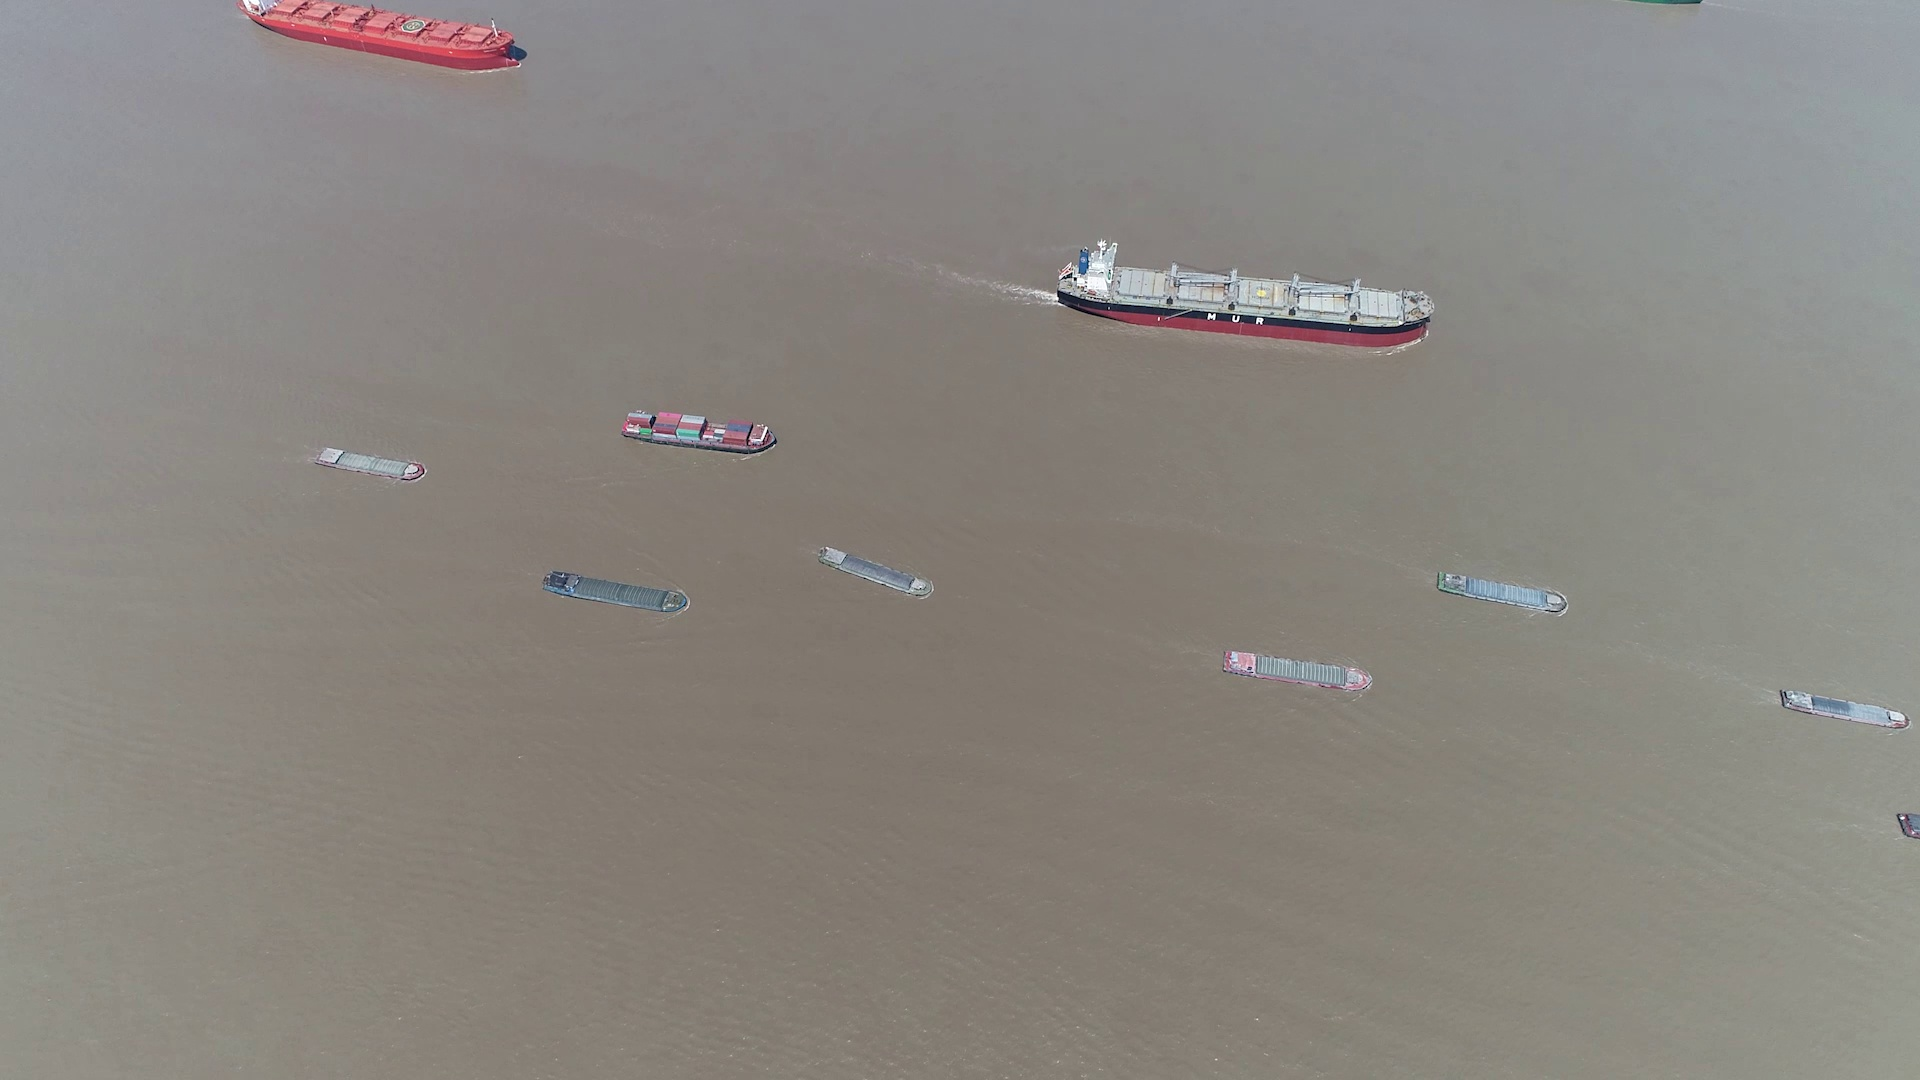ship: (1058, 243, 1437, 345), (243, 0, 525, 69), (622, 410, 778, 455), (545, 570, 687, 615), (1222, 650, 1373, 691), (1437, 570, 1569, 615), (822, 547, 934, 597), (1778, 687, 1908, 728), (311, 444, 425, 483), (1896, 814, 1919, 843), (1636, 0, 1702, 7)
